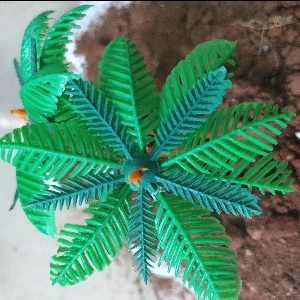plant: (2, 22, 272, 276)
